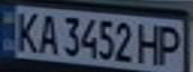2: (112, 19, 136, 64)
3: (57, 14, 81, 57)
4: (78, 15, 100, 60)
5: (97, 17, 118, 61)
A: (33, 11, 60, 55)
H: (133, 20, 163, 65)
K: (9, 8, 42, 53)
P: (154, 21, 187, 69)
